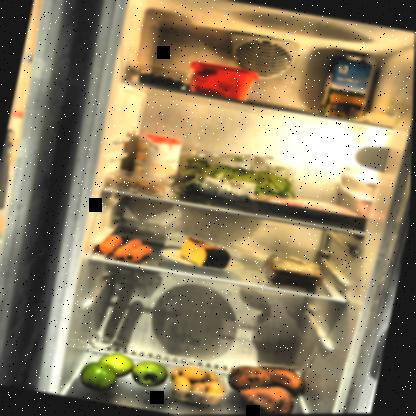apple: (78, 345, 176, 403)
blueberries: (134, 64, 193, 91)
butter: (183, 58, 263, 104)
carrot: (95, 229, 161, 266)
cheese: (179, 234, 237, 273)
ground_beef: (243, 189, 371, 232)
milk: (316, 51, 379, 123)
potato: (164, 362, 232, 409)
spinach: (175, 146, 307, 213)
sweet_potato: (222, 356, 319, 414)
